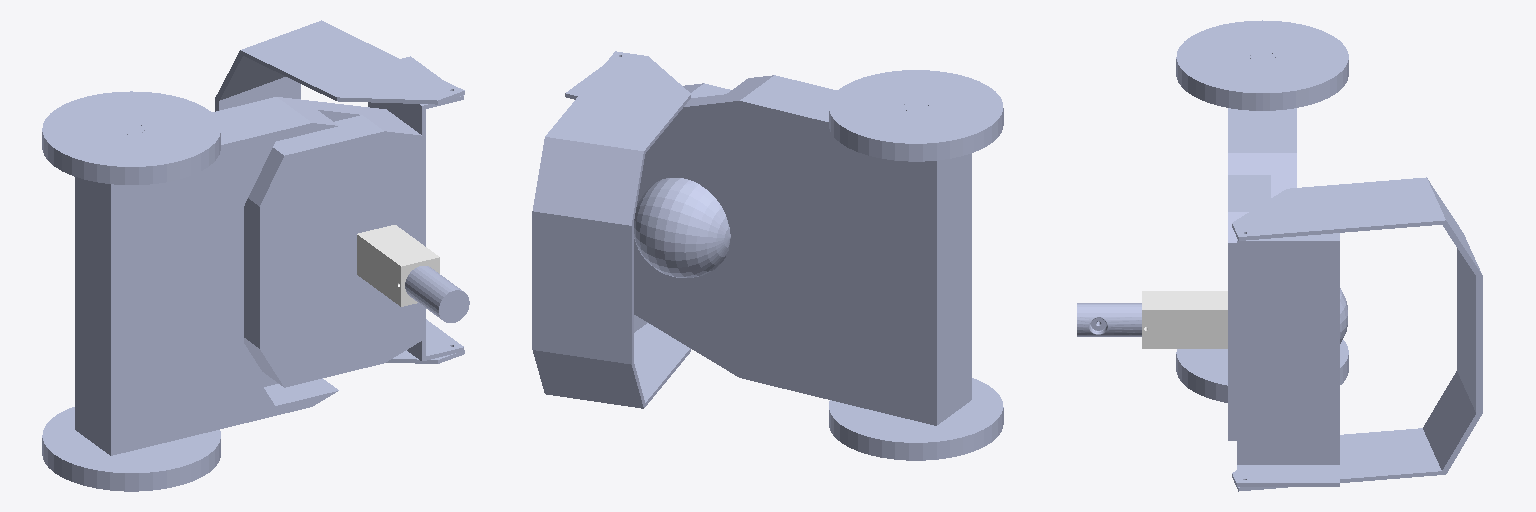
The robot description file, URDF, robot "robot_14":
<?xml version="1.0" encoding="utf-8"?>
<!-- This URDF was automatically created by SolidWorks to URDF Exporter! Originally created by [author] ([email redacted]) 
     Commit Version: 1.6.0-1-g15f4949  Build Version: 1.6.7594.29634
     For more information, please see http://wiki.ros.org/sw_urdf_exporter -->
<robot
  name="robot_14">
  <link
    name="base_link">
    <inertial>
      <origin
        xyz="0.014544 -0.036582 6.7844E-16"
        rpy="0 0 0" />
      <mass
        value="10.629" />
      <inertia
        ixx="0.10203"
        ixy="-0.004034"
        ixz="-7.6451E-18"
        iyy="0.23912"
        iyz="-3.0533E-18"
        izz="0.15152" />
    </inertial>
    <visual>
      <origin
        xyz="0 0 0"
        rpy="0 0 0" />
      <geometry>
        <mesh
          filename="package://robot_14/meshes/base_link.STL" />
      </geometry>
      <material
        name="">
        <color
          rgba="0.79216 0.81961 0.93333 1" />
      </material>
    </visual>
    <collision>
      <origin
        xyz="0 0 0"
        rpy="0 0 0" />
      <geometry>
        <mesh
          filename="package://robot_14/meshes/base_link.STL" />
      </geometry>
    </collision>
  </link>
  <link
    name="R_Link">
    <inertial>
      <origin
        xyz="0 0 0.01125"
        rpy="0 0 0" />
      <mass
        value="0.69095" />
      <inertia
        ixx="0.0017954"
        ixy="1.9729E-35"
        ixz="3.1782E-19"
        iyy="0.0017954"
        iyz="-6.325E-36"
        izz="0.0035325" />
    </inertial>
    <visual>
      <origin
        xyz="0 0 0"
        rpy="0 0 0" />
      <geometry>
        <mesh
          filename="package://robot_14/meshes/R_Link.STL" />
      </geometry>
      <material
        name="">
        <color
          rgba="0.79216 0.81961 0.93333 1" />
      </material>
    </visual>
    <collision>
      <origin
        xyz="0 0 0"
        rpy="0 0 0" />
      <geometry>
        <mesh
          filename="package://robot_14/meshes/R_Link.STL" />
      </geometry>
    </collision>
  </link>
  <joint
    name="R_Joint"
    type="continuous">
    <origin
      xyz="-0.13201 -0.04 -0.1775"
      rpy="3.1416 0 0" />
    <parent
      link="base_link" />
    <child
      link="R_Link" />
    <axis
      xyz="0 0 1" />
  </joint>
  <link
    name="L_Link">
    <inertial>
      <origin
        xyz="0 0 -0.01125"
        rpy="0 0 0" />
      <mass
        value="0.69095" />
      <inertia
        ixx="0.0017954"
        ixy="1.9729E-35"
        ixz="3.1782E-19"
        iyy="0.0017954"
        iyz="-6.325E-36"
        izz="0.0035325" />
    </inertial>
    <visual>
      <origin
        xyz="0 0 0"
        rpy="0 0 0" />
      <geometry>
        <mesh
          filename="package://robot_14/meshes/L_Link.STL" />
      </geometry>
      <material
        name="">
        <color
          rgba="0.79216 0.81961 0.93333 1" />
      </material>
    </visual>
    <collision>
      <origin
        xyz="0 0 0"
        rpy="0 0 0" />
      <geometry>
        <mesh
          filename="package://robot_14/meshes/L_Link.STL" />
      </geometry>
    </collision>
  </link>
  <joint
    name="L_Joint"
    type="continuous">
    <origin
      xyz="-0.13201 -0.04 0.1775"
      rpy="3.1416 0 0" />
    <parent
      link="base_link" />
    <child
      link="L_Link" />
    <axis
      xyz="0 0 1" />
  </joint>
  <link
    name="Gripper_Link">
    <inertial>
      <origin
        xyz="0.0016926 -0.1525 0.062677"
        rpy="0 0 0" />
      <mass
        value="0.27354" />
      <inertia
        ixx="0.0033211"
        ixy="-2.2412E-20"
        ixz="1.8332E-05"
        iyy="0.00038553"
        iyz="2.878E-19"
        izz="0.0030666" />
    </inertial>
    <visual>
      <origin
        xyz="0 0 0"
        rpy="0 0 0" />
      <geometry>
        <mesh
          filename="package://robot_14/meshes/Gripper_Link.STL" />
      </geometry>
      <material
        name="">
        <color
          rgba="0.79216 0.81961 0.93333 1" />
      </material>
    </visual>
    <collision>
      <origin
        xyz="0 0 0"
        rpy="0 0 0" />
      <geometry>
        <mesh
          filename="package://robot_14/meshes/Gripper_Link.STL" />
      </geometry>
    </collision>
  </link>
  <joint
    name="Gripper_Joint"
    type="fixed">
    <origin
      xyz="0.22986 0.05 0.1525"
      rpy="1.5708 0 0" />
    <parent
      link="base_link" />
    <child
      link="Gripper_Link" />
    <axis
      xyz="0 0 0" />
  </joint>
  <link
    name="Slider_Link">
    <inertial>
      <origin
        xyz="0.1525 0.19953 -0.048118"
        rpy="0 0 0" />
      <mass
        value="0.1" />
      <inertia
        ixx="0.0046159"
        ixy="-4.0549E-18"
        ixz="2.1001E-18"
        iyy="0.0098749"
        iyz="0.0001874"
        izz="0.013164" />
    </inertial>
    <visual>
      <origin
        xyz="0 0 0"
        rpy="0 0 0" />
      <geometry>
        <mesh
          filename="package://robot_14/meshes/Slider_Link.STL" />
      </geometry>
      <material
        name="">
        <color
          rgba="0.79216 0.81961 0.93333 1" />
      </material>
    </visual>
    <collision>
      <origin
        xyz="0 0 0"
        rpy="0 0 0" />
      <geometry>
        <mesh
          filename="package://robot_14/meshes/Slider_Link.STL" />
      </geometry>
    </collision>
  </link>
  <joint
    name="Slider_Joint"
    type="revolute">
    <origin
      xyz="0.04 0 0.11"
      rpy="-0.0096521 0 -1.5708" />
    <parent
      link="Gripper_Link" />
    <child
      link="Slider_Link" />
    <axis
      xyz="1 0 0" />
    <limit
      lower="-3"
      upper="-0.5"
      effort="1000"
      velocity="0.5" />
  </joint>
  <link
    name="Laser_Link">
    <inertial>
      <origin
        xyz="0 0 0"
        rpy="0 0 0" />
      <mass
        value="0" />
      <inertia
        ixx="0"
        ixy="0"
        ixz="0"
        iyy="0"
        iyz="0"
        izz="0" />
    </inertial>
    <visual>
      <origin
        xyz="0 0 0"
        rpy="0 0 0" />
      <geometry>
        <mesh
          filename="package://robot_14/meshes/Laser_Link.STL" />
      </geometry>
      <material
        name="">
        <color
          rgba="1 1 1 1" />
      </material>
    </visual>
    <collision>
      <origin
        xyz="0 0 0"
        rpy="0 0 0" />
      <geometry>
        <mesh
          filename="package://robot_14/meshes/Laser_Link.STL" />
      </geometry>
    </collision>
  </link>
  <joint
    name="Laser_Joint"
    type="fixed">
    <origin
      xyz="0.18485 -0.08 0.025"
      rpy="1.5708 1.5708 0" />
    <parent
      link="base_link" />
    <child
      link="Laser_Link" />
    <axis
      xyz="0 0 0" />
  </joint>
  <link
    name="Camera_Link">
    <inertial>
      <origin
        xyz="-0.0004896 1.1762E-08 0.037068"
        rpy="0 0 0" />
      <mass
        value="0.091097" />
      <inertia
        ixx="5.2948E-05"
        ixy="-1.0409E-10"
        ixz="5.7682E-07"
        iyy="5.2324E-05"
        iyz="3.5273E-12"
        izz="1.8086E-05" />
    </inertial>
    <visual>
      <origin
        xyz="0 0 0"
        rpy="0 0 0" />
      <geometry>
        <mesh
          filename="package://robot_14/meshes/Camera_Link.STL" />
      </geometry>
      <material
        name="">
        <color
          rgba="0.79216 0.81961 0.93333 1" />
      </material>
    </visual>
    <collision>
      <origin
        xyz="0 0 0"
        rpy="0 0 0" />
      <geometry>
        <mesh
          filename="package://robot_14/meshes/Camera_Link.STL" />
      </geometry>
    </collision>
  </link>
  <joint
    name="Camera_Joint"
    type="fixed">
    <origin
      xyz="0.025 -0.025 0.1"
      rpy="0 0 1.5708" />
    <parent
      link="Laser_Link" />
    <child
      link="Camera_Link" />
    <axis
      xyz="0 0 0" />
  </joint>
</robot>

--- Facts derived from the render (not from the file) ---
The picture shows the robot from 3 angles, left to right: view 1: azimuth 30°, elevation 25°; view 2: azimuth 150°, elevation 25°; view 3: azimuth 270°, elevation 25°; orthographic projection.
Robot: robot_14 — 7 links, 6 joints (1 revolute, 2 continuous, 3 fixed); root link base_link; default pose: joints at zero except 1 at the middle of their limits (Slider_Joint = -1.75).
Links seen in each view (by area): view 1: base_link, L_Link, Slider_Link, R_Link, Laser_Link, Gripper_Link, Camera_Link; view 2: base_link, Slider_Link, L_Link, R_Link; view 3: Gripper_Link, Slider_Link, L_Link, base_link, Laser_Link, R_Link, Camera_Link.
Boxes of the visible links, x1=… form: base_link: x1=75, y1=97, x2=421, y2=455; L_Link: x1=42, y1=91, x2=220, y2=184; Slider_Link: x1=215, y1=20, x2=464, y2=363; R_Link: x1=42, y1=407, x2=220, y2=491; Laser_Link: x1=357, y1=225, x2=439, y2=306; Gripper_Link: x1=368, y1=56, x2=463, y2=360; Camera_Link: x1=405, y1=266, x2=469, y2=322; base_link: x1=634, y1=75, x2=971, y2=425; Slider_Link: x1=532, y1=51, x2=690, y2=408; L_Link: x1=829, y1=70, x2=1003, y2=161; R_Link: x1=829, y1=378, x2=1003, y2=460; Gripper_Link: x1=1237, y1=233, x2=1339, y2=486; Slider_Link: x1=1232, y1=177, x2=1482, y2=491; L_Link: x1=1176, y1=20, x2=1348, y2=110; base_link: x1=1228, y1=52, x2=1347, y2=440; Laser_Link: x1=1142, y1=291, x2=1227, y2=348; R_Link: x1=1176, y1=340, x2=1348, y2=402; Camera_Link: x1=1077, y1=303, x2=1141, y2=336.
Bounding box of the posed robot: 0.5136 × 0.4702 × 0.4 m (x, y, z).
7 mesh visuals loaded from 7 distinct referenced files (7 binary STL).